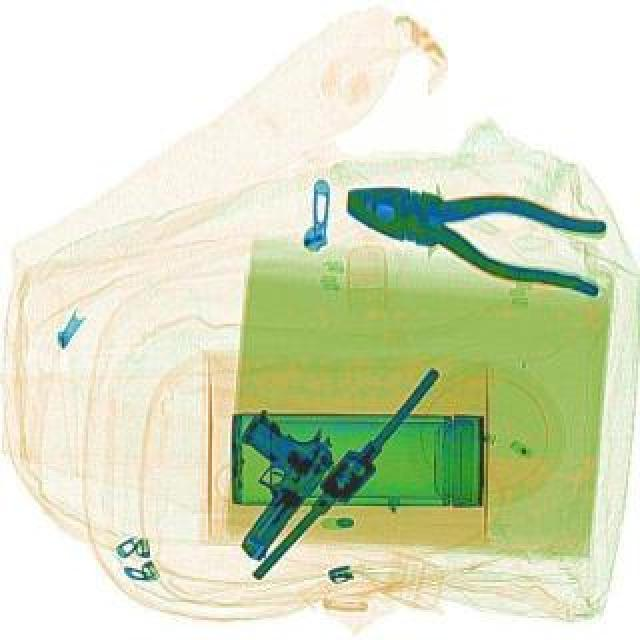gun: (182, 396, 346, 562)
wrench: (332, 164, 612, 296)
